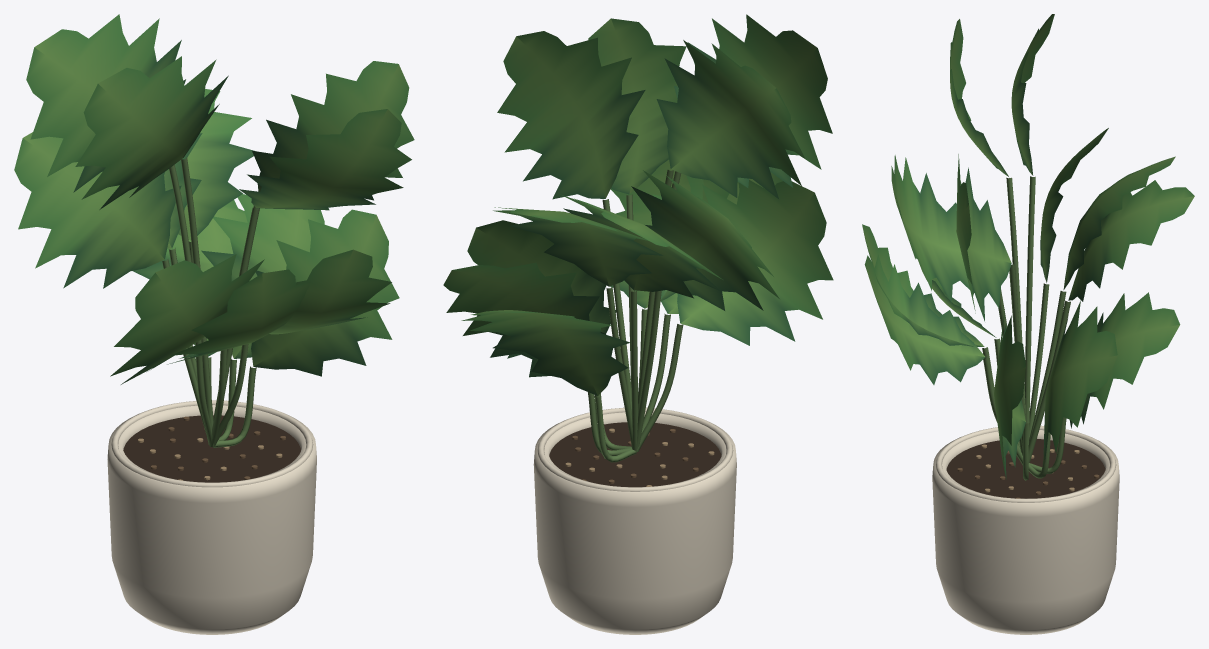
File: officeMonstera.glb
3 views of the same model, side by side, from view 1: azimuth 30°, elevation 25°; view 2: azimuth 150°, elevation 25°; view 3: azimuth 270°, elevation 25° (orthographic). The views are drawn at different scales.
Size of the model in its own units: 0.8286 by 1.34 by 0.7461.
